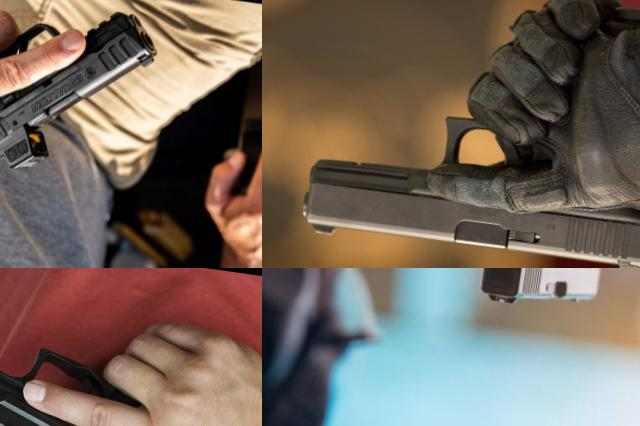handgun: (293, 0, 640, 268), (0, 0, 165, 192), (0, 321, 256, 426), (473, 268, 612, 330)
